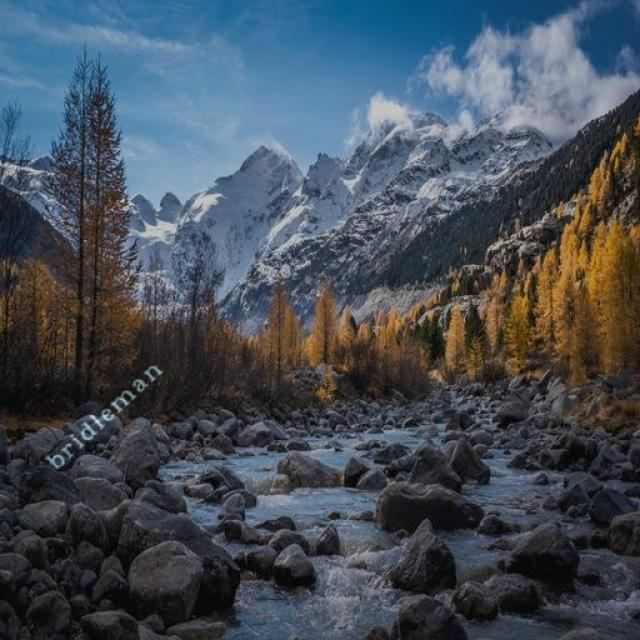watermark: (48, 350, 163, 475)
